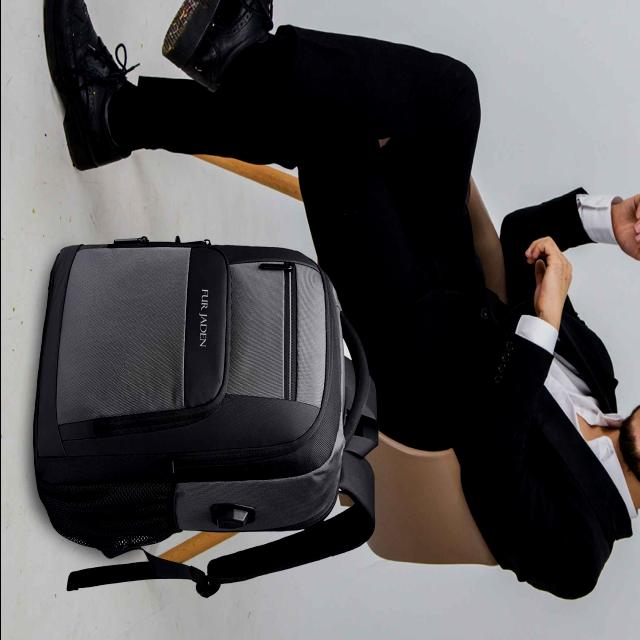backpack: (33, 237, 380, 599)
